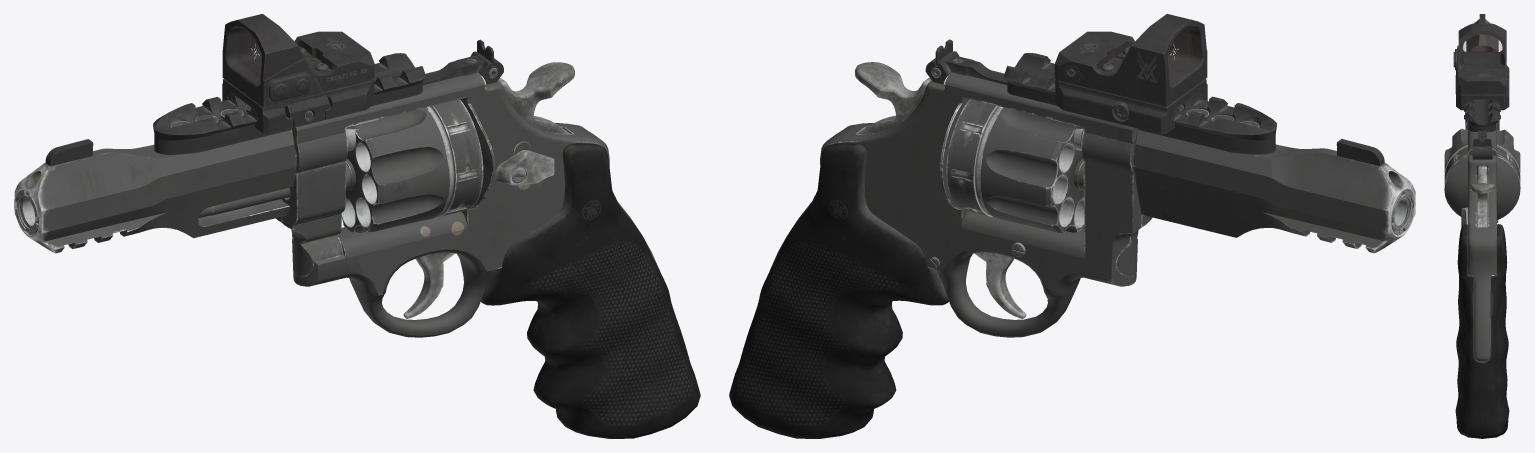
File: weapon-rattler.glb
The picture shows the model from 3 angles, left to right: view 1: azimuth 30°, elevation 25°; view 2: azimuth 150°, elevation 25°; view 3: azimuth 270°, elevation 25°; orthographic projection. The views are drawn at different scales.
Visible parts, largest first — view 1: body_Revolver008low004, body_Revolver005low004, body_Revolver001low003, body_Revolverlow003, optic_AIM001low003, body_Revolver004low003, body_Revolver0051low005, body_Revolver012low004, body_Revolver007low003, body_Revolver006low004, body_Revolver003low003, optic_AIM004low003 (+4 smaller); view 2: body_Revolver008low004, body_Revolver005low004, body_Revolver001low003, body_Revolverlow003, optic_AIM001low003, body_Revolver004low003, body_Revolver012low004, body_Revolver006low004, body_Revolver017low003, body_Revolver015low003, optic_AIMglass001low003, body_Revolver0051low005; view 3: body_Revolver008low004, body_Revolver005low004, optic_AIM001low003, body_Revolverlow003, body_Revolver004low003, body_Revolver012low004, optic_AIMglass001low003, body_Revolver001low003, body_Revolver018low003, body_Revolver019low003, body_Revolver007low003.
Boxes of the visible parts, x1,y1,x2,y2 form: body_Revolver008low004: [481, 123, 700, 438]; body_Revolver005low004: [276, 70, 659, 337]; body_Revolver001low003: [14, 129, 296, 253]; body_Revolverlow003: [341, 99, 483, 233]; optic_AIM001low003: [222, 14, 374, 133]; body_Revolver004low003: [153, 53, 425, 154]; body_Revolver0051low005: [282, 161, 345, 276]; body_Revolver012low004: [498, 62, 574, 134]; body_Revolver007low003: [495, 150, 554, 185]; body_Revolver006low004: [403, 252, 454, 318]; body_Revolver003low003: [198, 159, 355, 217]; optic_AIM004low003: [284, 95, 329, 127]; body_Revolver008low004: [729, 123, 948, 438]; body_Revolver005low004: [770, 70, 1141, 337]; body_Revolver001low003: [1133, 129, 1415, 253]; body_Revolverlow003: [946, 99, 1084, 233]; optic_AIM001low003: [1054, 14, 1207, 134]; body_Revolver004low003: [1004, 53, 1276, 154]; body_Revolver012low004: [855, 62, 931, 133]; body_Revolver006low004: [975, 252, 1026, 318]; body_Revolver017low003: [945, 55, 1007, 84]; body_Revolver015low003: [1337, 139, 1384, 165]; optic_AIMglass001low003: [1168, 28, 1192, 77]; body_Revolver0051low005: [1117, 215, 1152, 276]; body_Revolver008low004: [1455, 224, 1509, 438]; body_Revolver005low004: [1444, 120, 1520, 361]; optic_AIM001low003: [1456, 23, 1509, 110]; body_Revolverlow003: [1444, 128, 1520, 185]; body_Revolver004low003: [1464, 45, 1500, 131]; body_Revolver012low004: [1470, 166, 1494, 226]; optic_AIMglass001low003: [1463, 35, 1502, 54]; body_Revolver001low003: [1466, 19, 1498, 51]; body_Revolver018low003: [1472, 145, 1492, 159]; body_Revolver019low003: [1473, 138, 1491, 147]; body_Revolver007low003: [1461, 206, 1467, 227].
Size of the model in its own units: 0.2546 by 0.1811 by 0.0421.
Materials: 3 (3 with a texture image).
